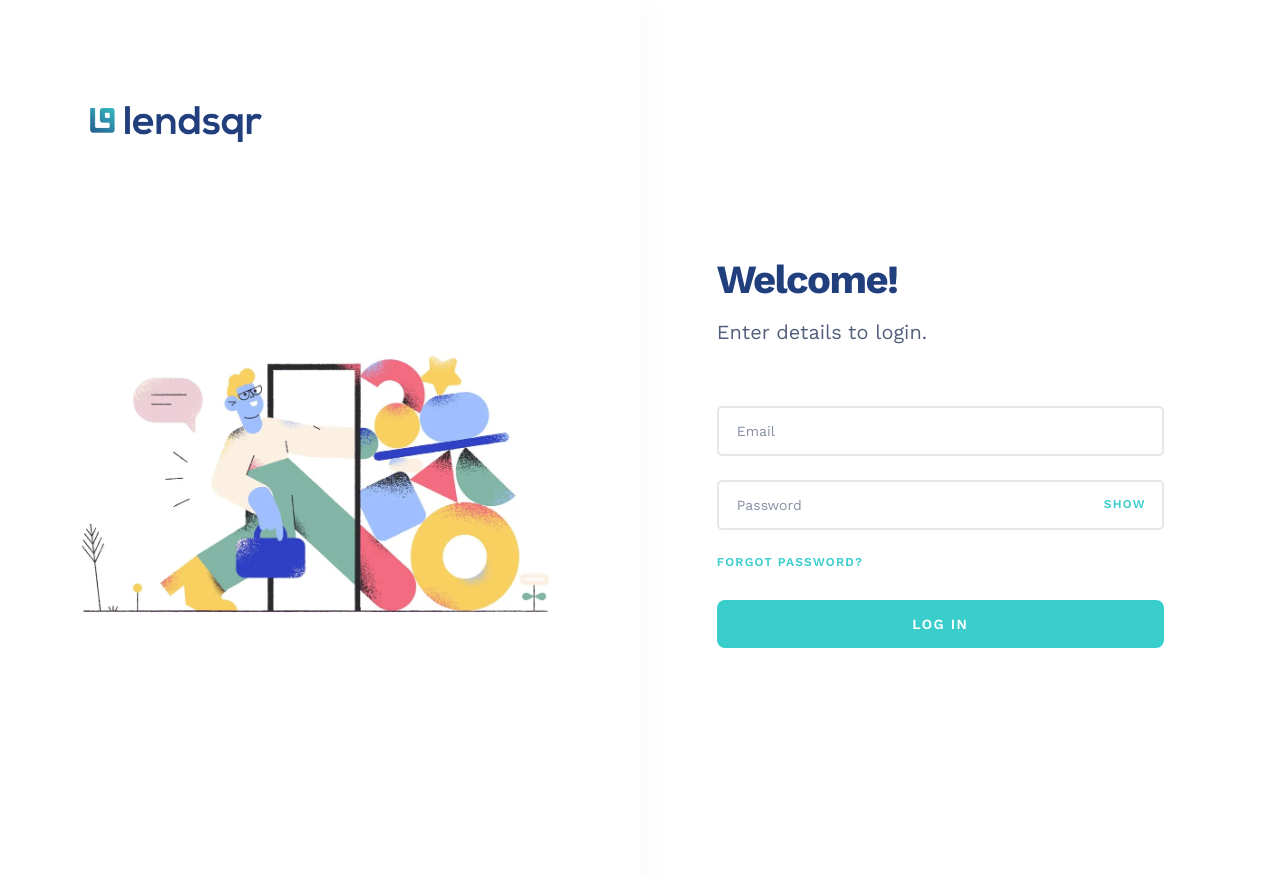
Test: LoginPage › signs in with valid details and lands on the dashboard
Type "Adedeji@Lendsqr.com" into the field labelled "Email" at (940, 431), box [719,408,1162,454]
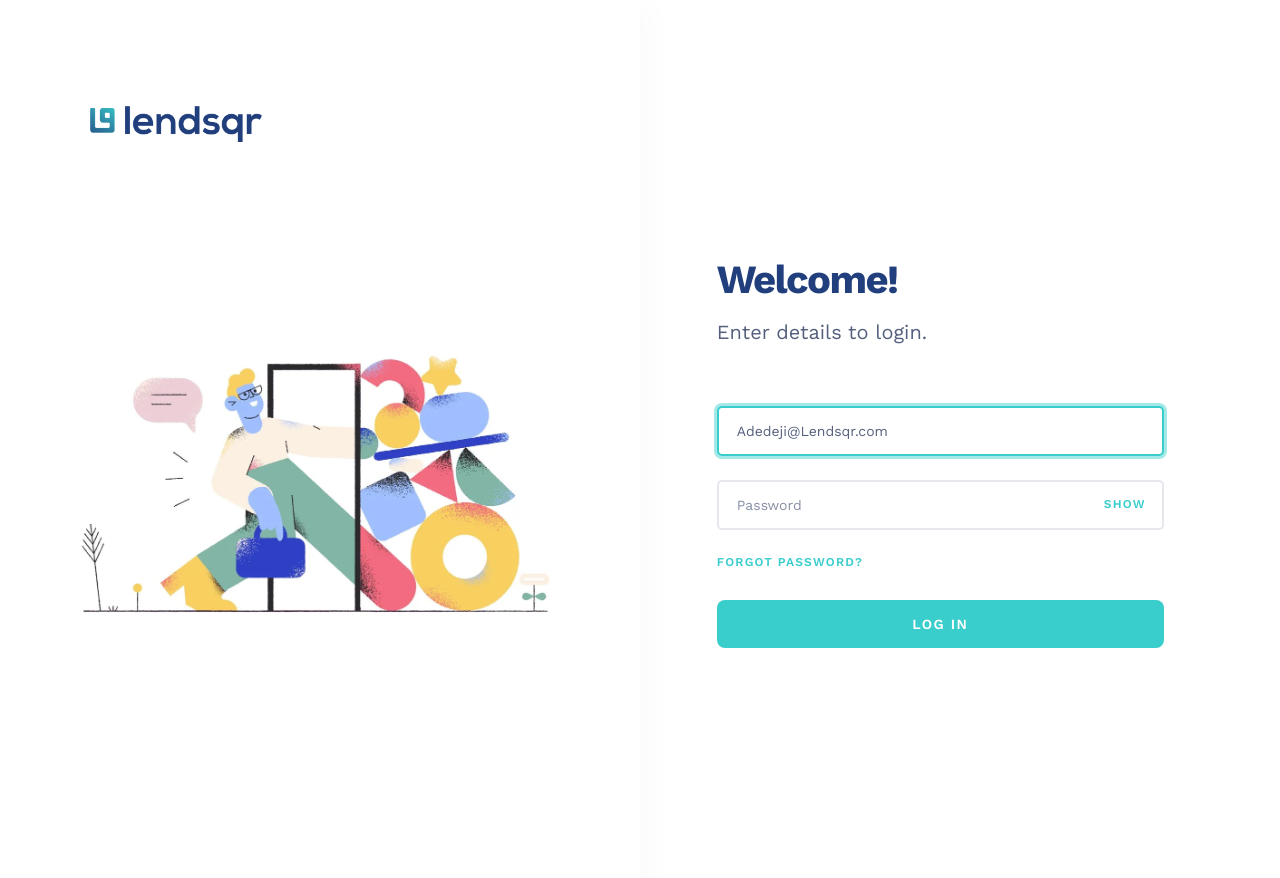
Type "password123" into the password field labelled "Password" at (911, 505), box [719,482,1104,528]
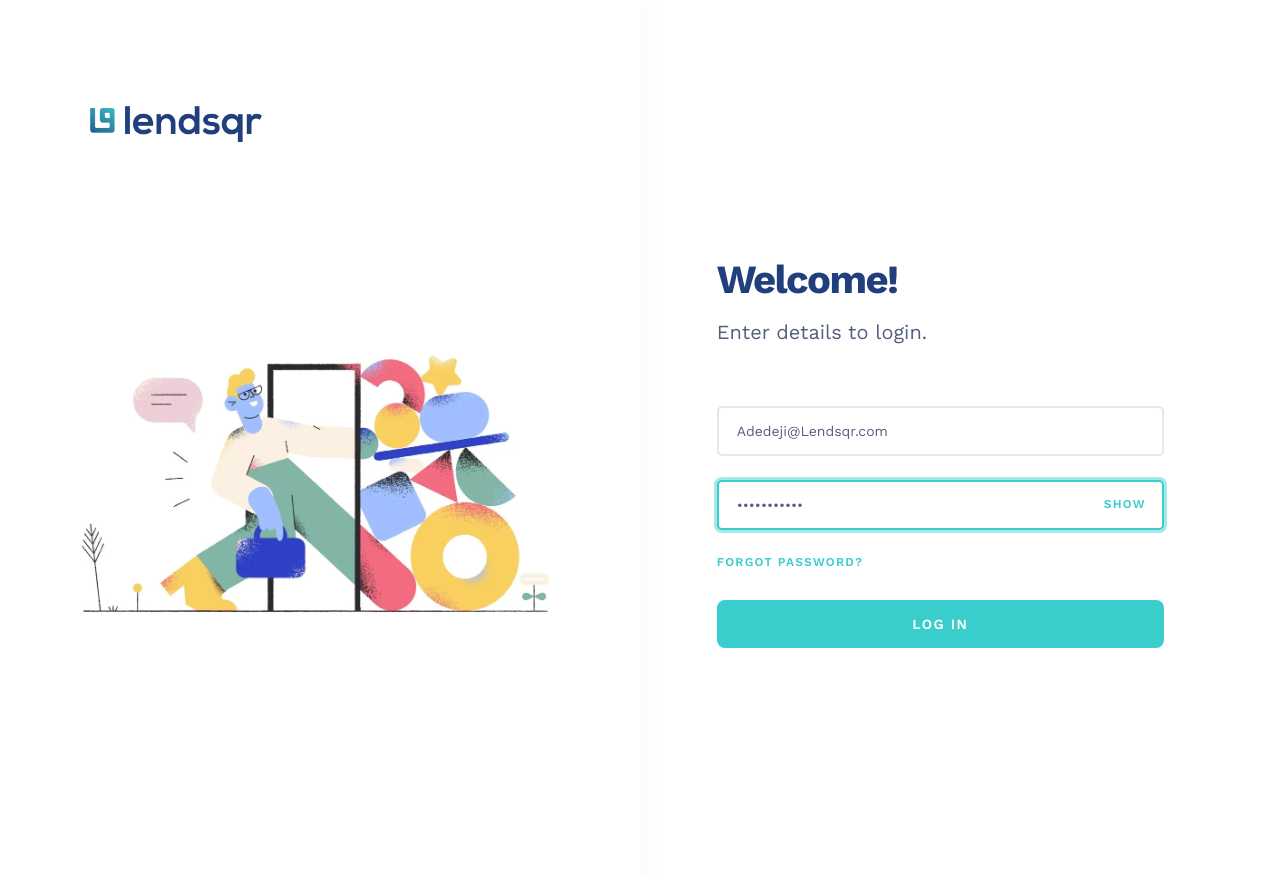
Click the button "Log in" at (940, 624), box [717,600,1164,648]
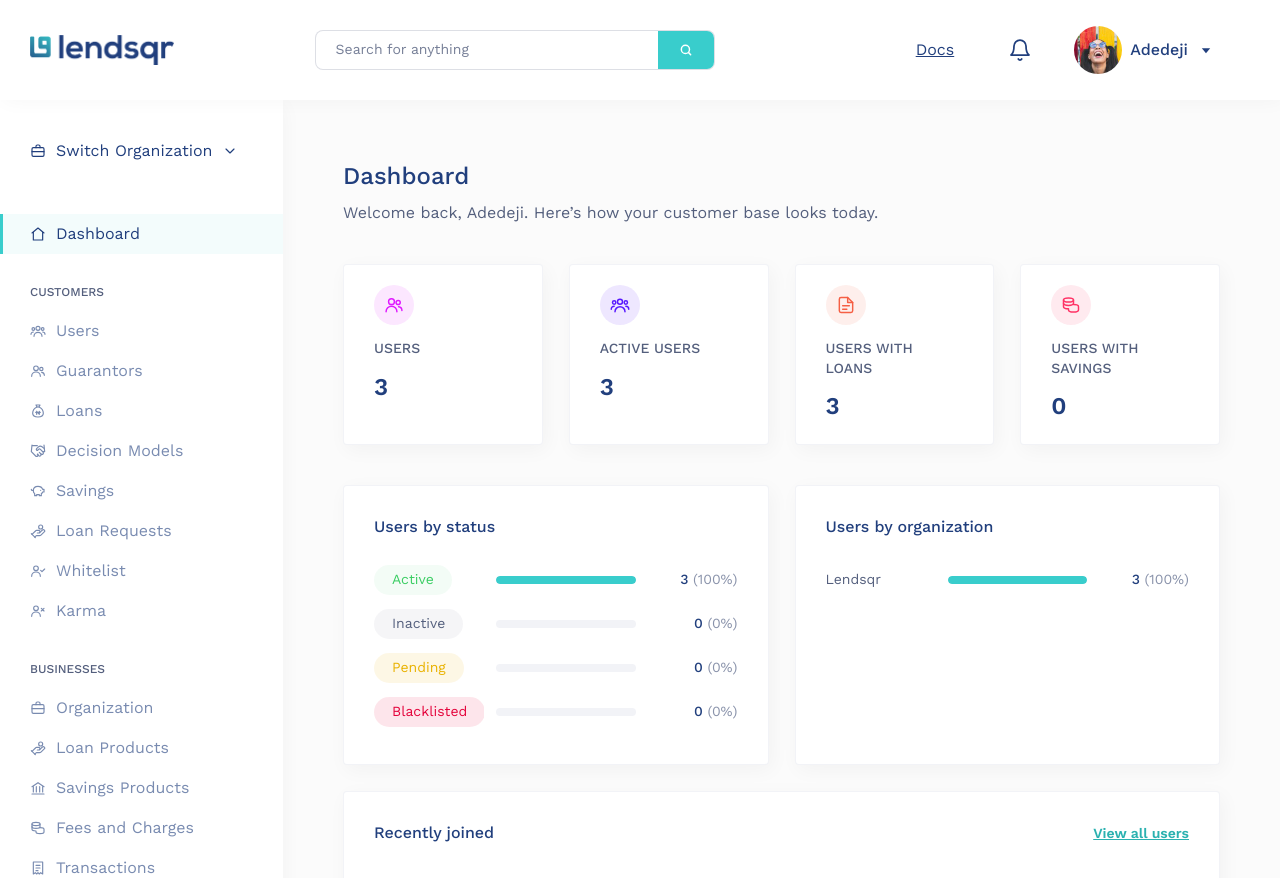
Check: the heading "Dashboard" is shown, box [343,162,469,190]
